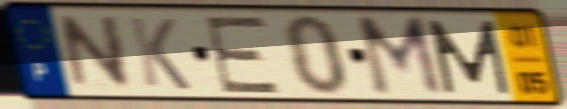0: (277, 12, 354, 99)
E: (201, 14, 284, 95)
K: (126, 14, 194, 93)
M: (352, 13, 449, 100), (424, 17, 514, 97)
N: (56, 13, 135, 92)
